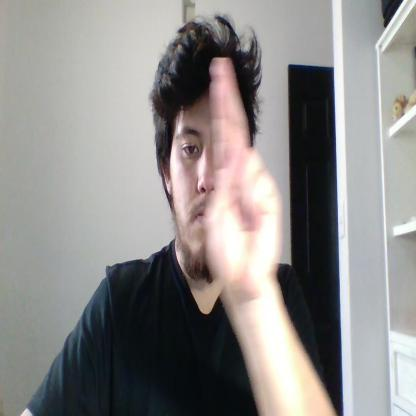R: (206, 56, 283, 295)
